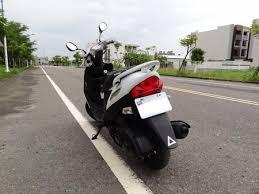motorcycle: (63, 20, 192, 170)
